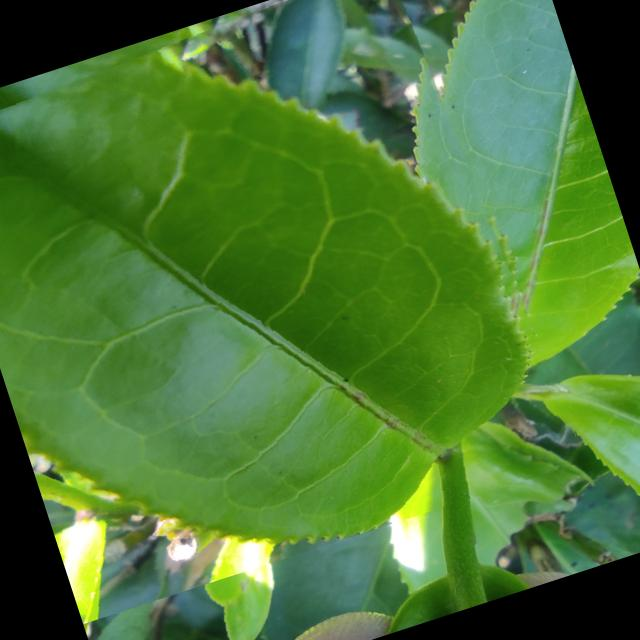Category C(4-7 days): (0, 0, 585, 624)
